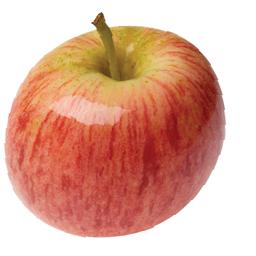Apple Fresh: (1, 0, 256, 256)
